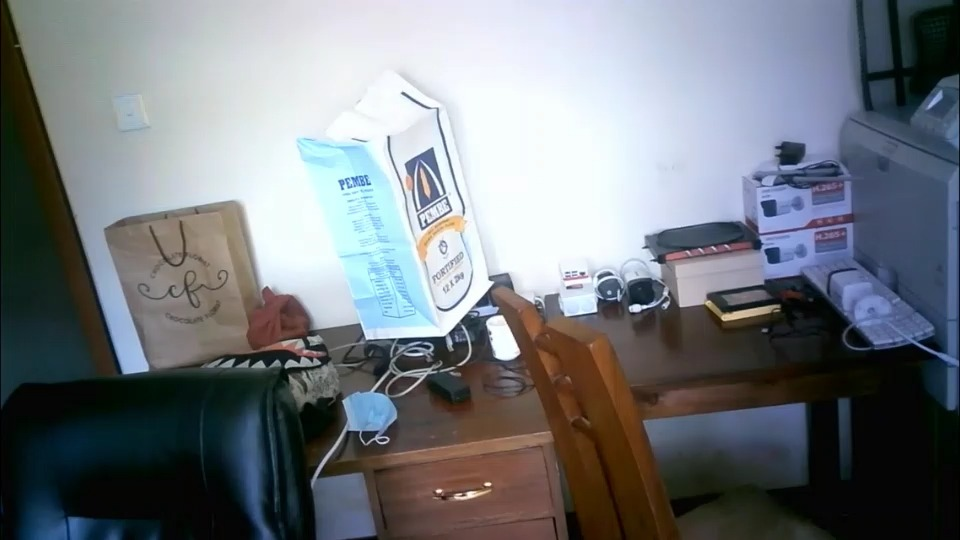wheat_flour_blue_label: (296, 73, 495, 337)
